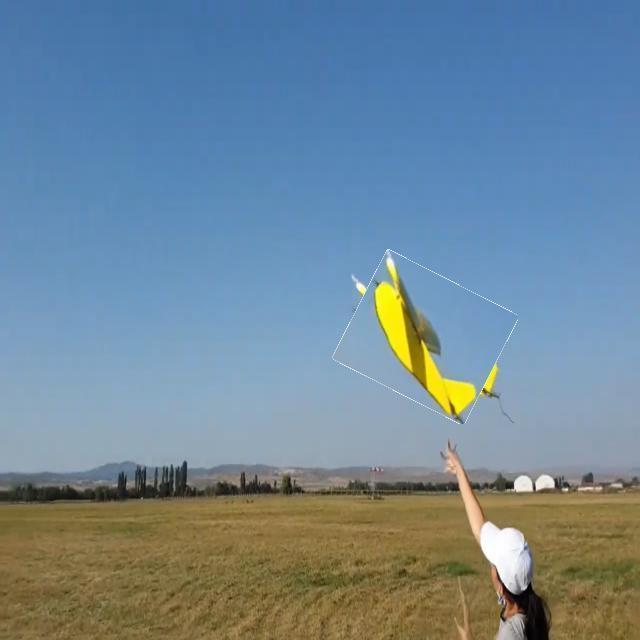iha: (336, 258, 508, 424)
